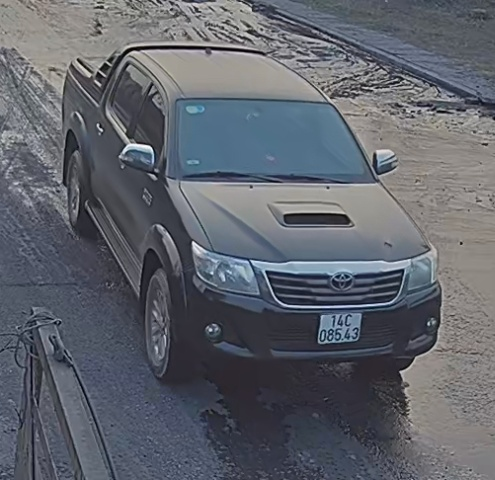vehicle plate: (315, 307, 364, 346)
